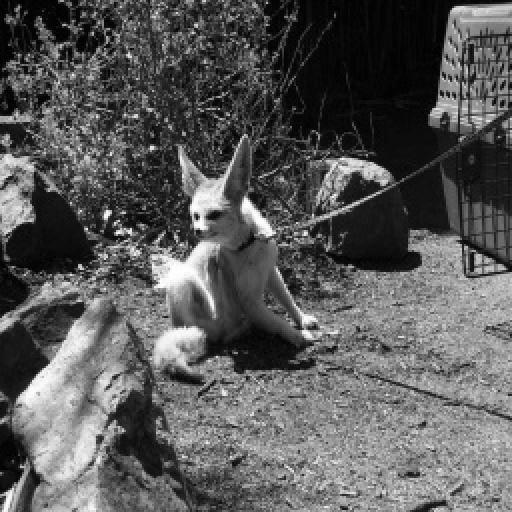zorro: (152, 136, 316, 380)
